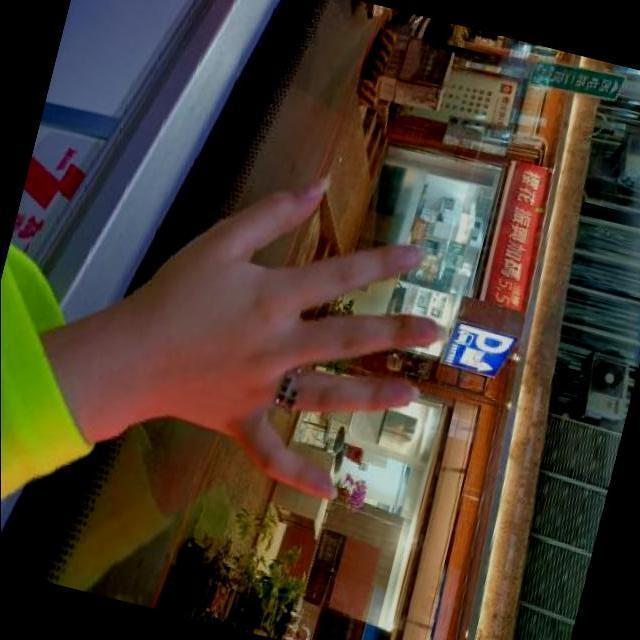hand: (56, 121, 491, 536)
